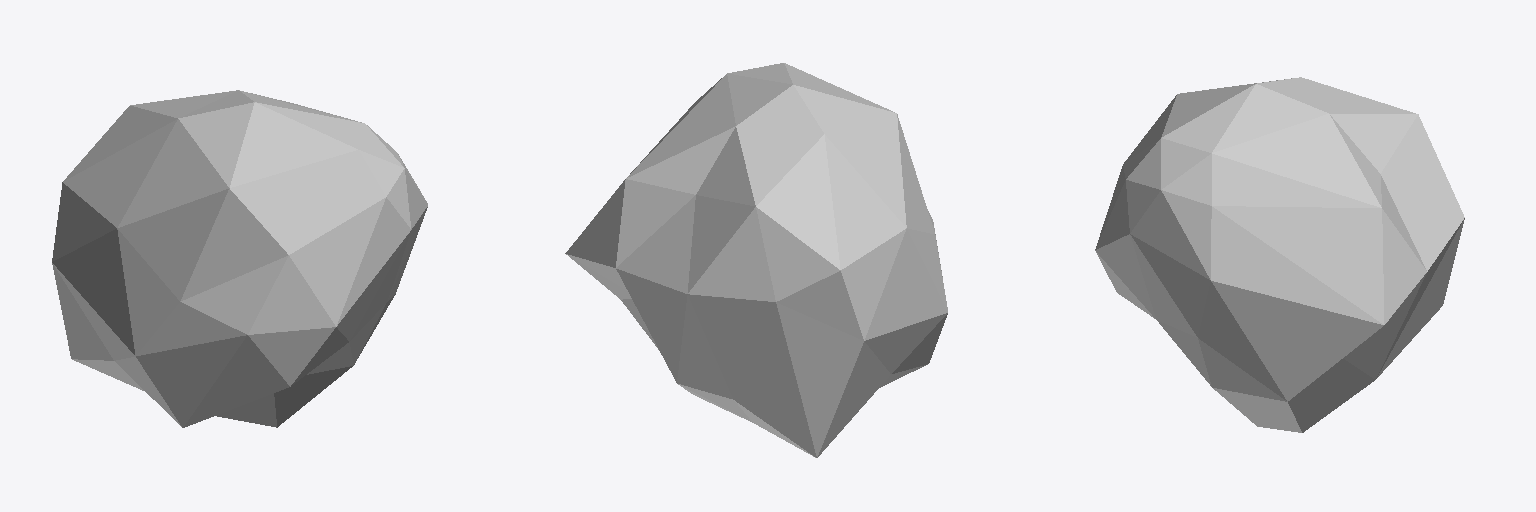
File: asteroid.obj
The picture shows the model from 3 angles: view 1: azimuth 30°, elevation 25°; view 2: azimuth 150°, elevation 25°; view 3: azimuth 270°, elevation 25°; orthographic projection.
Parts seen in each view (by area): view 1: Icosphere; view 2: Icosphere; view 3: Icosphere.
Part boxes in pixels (x1,y1,x2,y2): Icosphere: (52, 90, 427, 427); Icosphere: (565, 63, 947, 457); Icosphere: (1095, 77, 1464, 432).
Bounding box in the file's own units: 5.37 × 5.66 × 5.72.